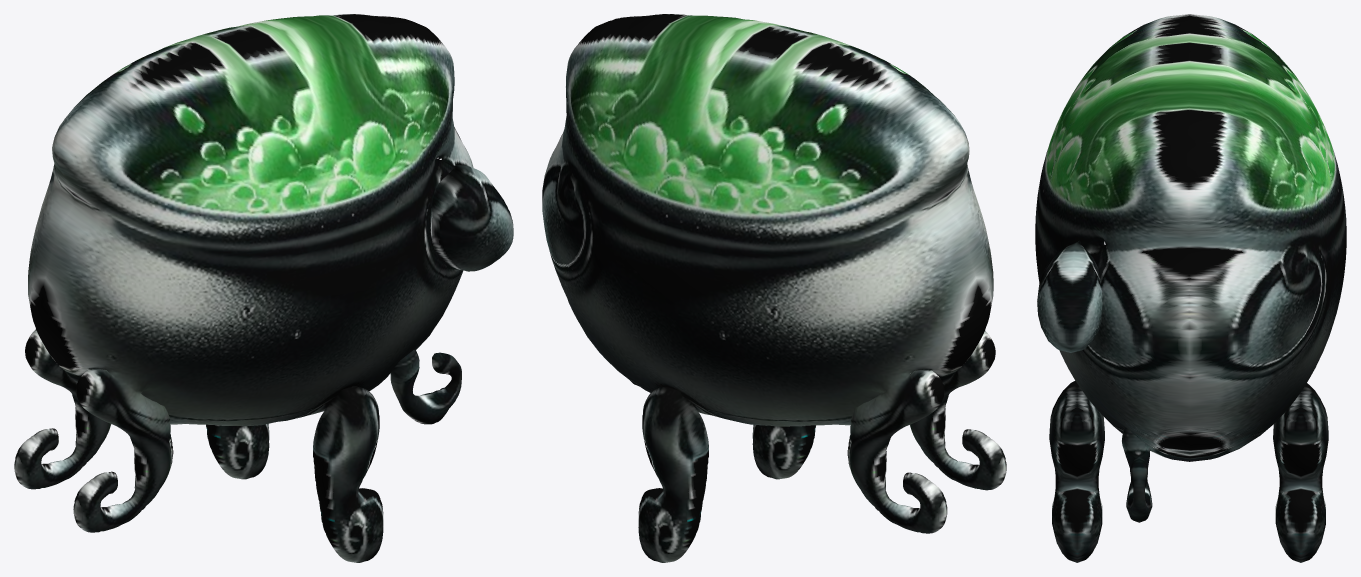
The model's file is cauldron_model.glb.
3 views of the same model, side by side, from view 1: azimuth 30°, elevation 25°; view 2: azimuth 150°, elevation 25°; view 3: azimuth 270°, elevation 25° (orthographic). The views are drawn at different scales.
Size of the model in its own units: 4.5 by 5 by 2.92.
1 material, 1 textured.
